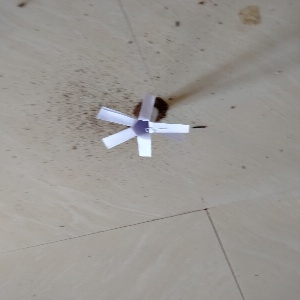weed: (94, 93, 195, 162)
